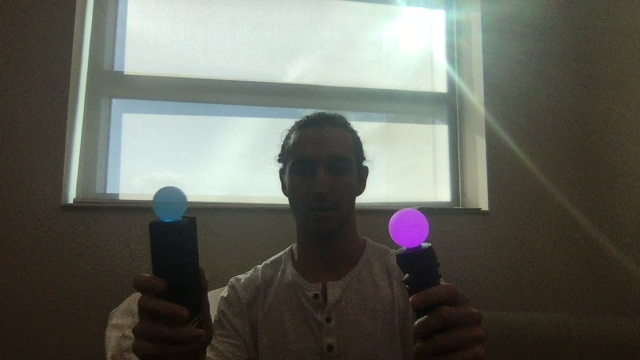wand: (388, 209, 430, 247), (154, 186, 189, 221)
